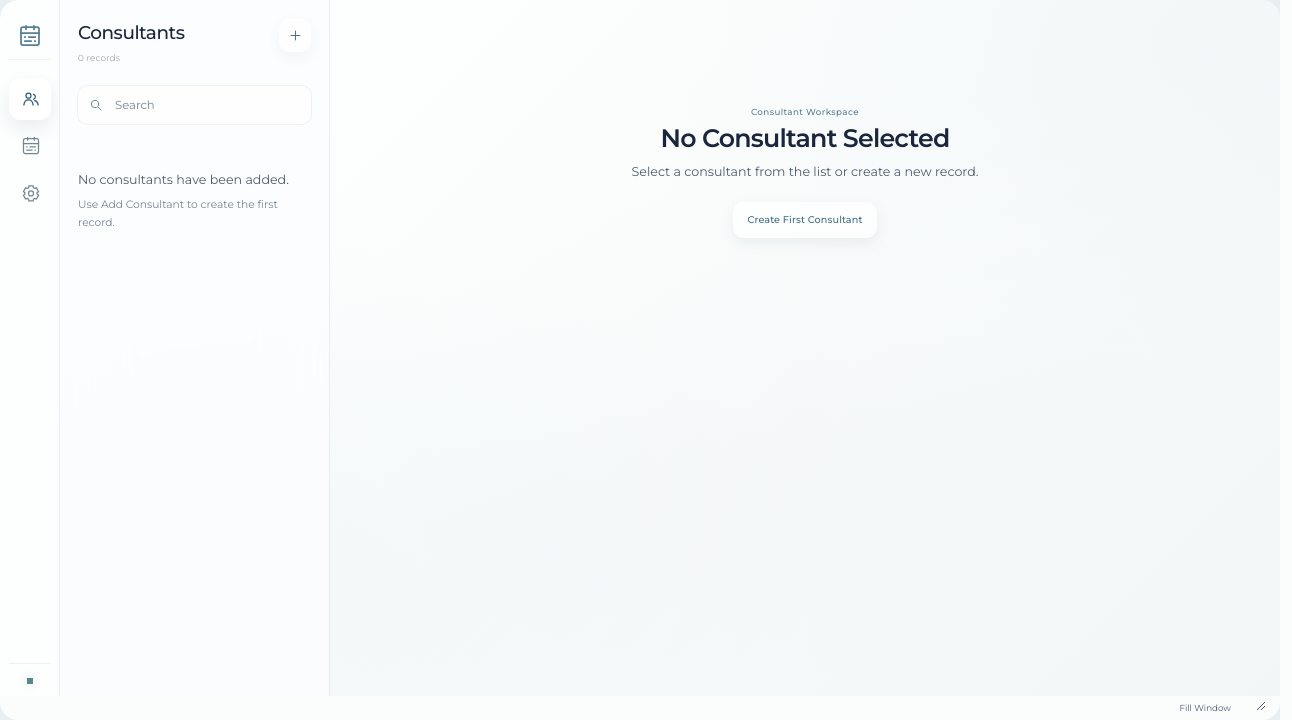
holiday and carry-forward workflows › opens the shared public-holiday settings from primary navigation
Click the button named "Settings" at (30, 193), box x1=9 y1=172 x2=51 y2=214
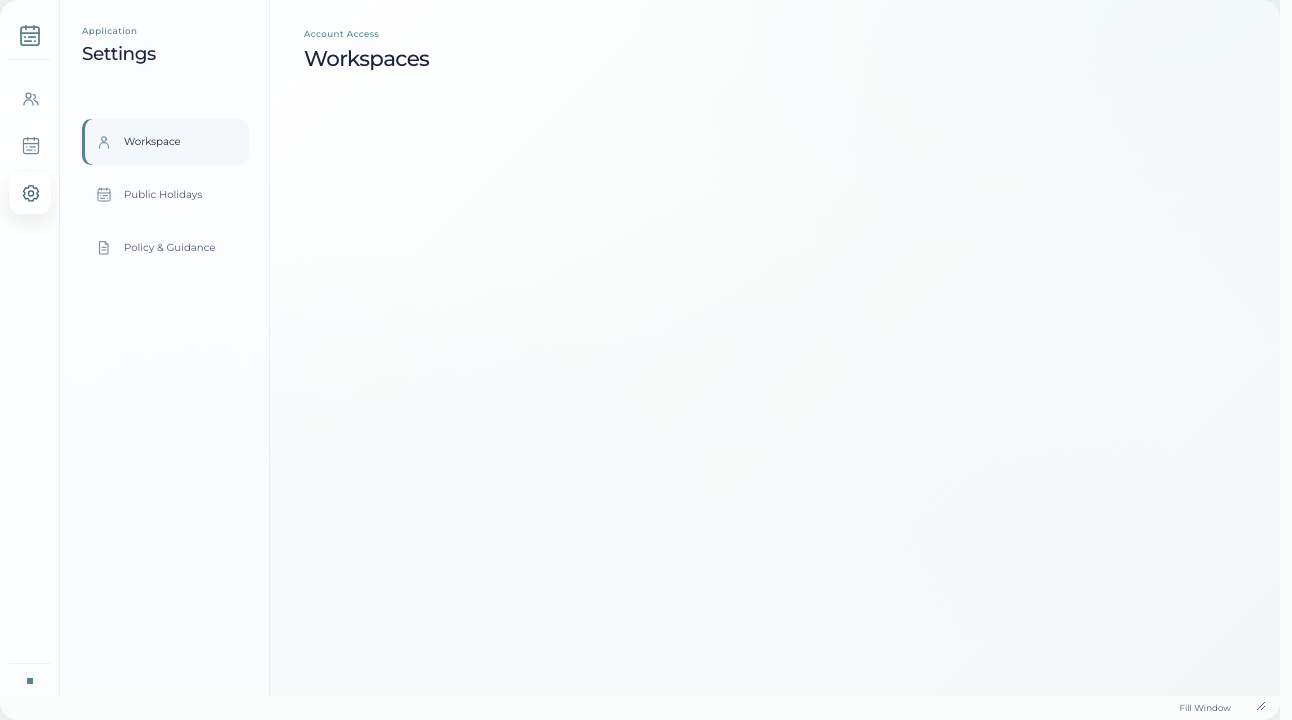
Click the button "Public Holidays" at (164, 195), box x1=80 y1=172 x2=249 y2=218
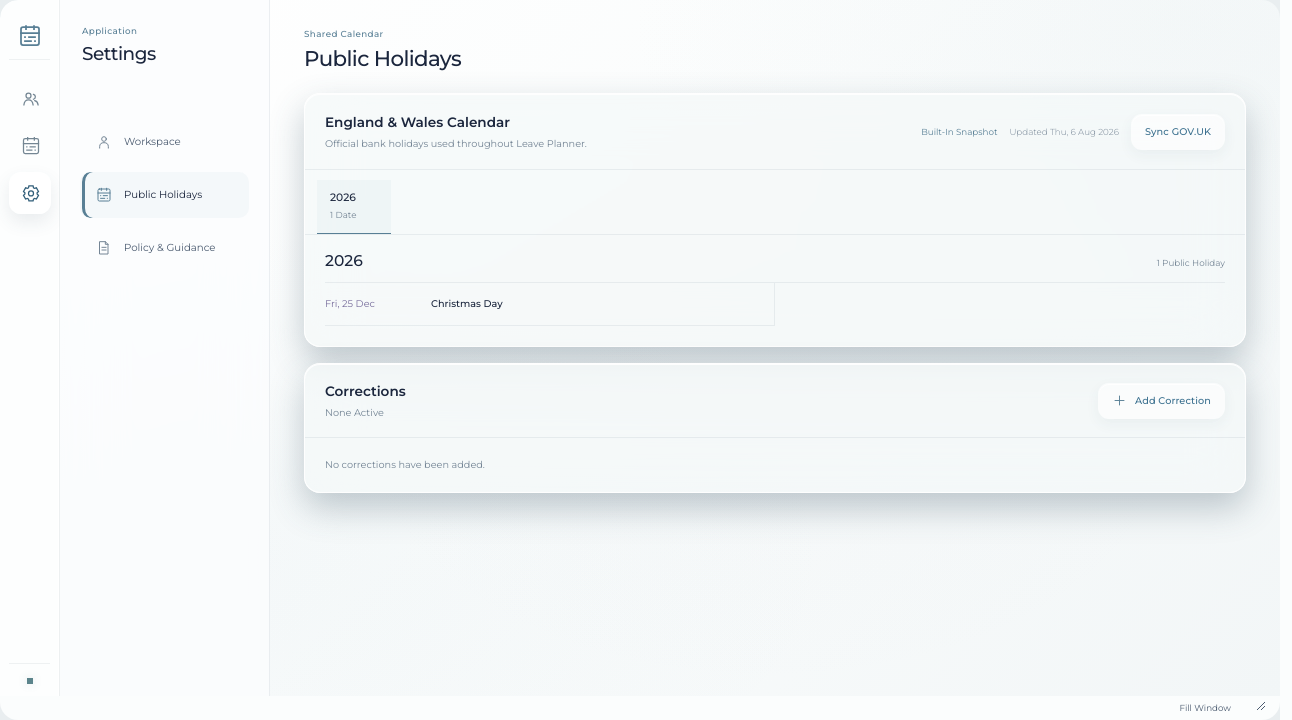
expect the heading "Public Holidays" is shown: met, box x1=304 y1=47 x2=461 y2=70
expect the tab "2026 1 Date" is shown: met, box x1=317 y1=180 x2=391 y2=234
expect the text "1 Date" is shown: met, box x1=330 y1=210 x2=356 y2=220
